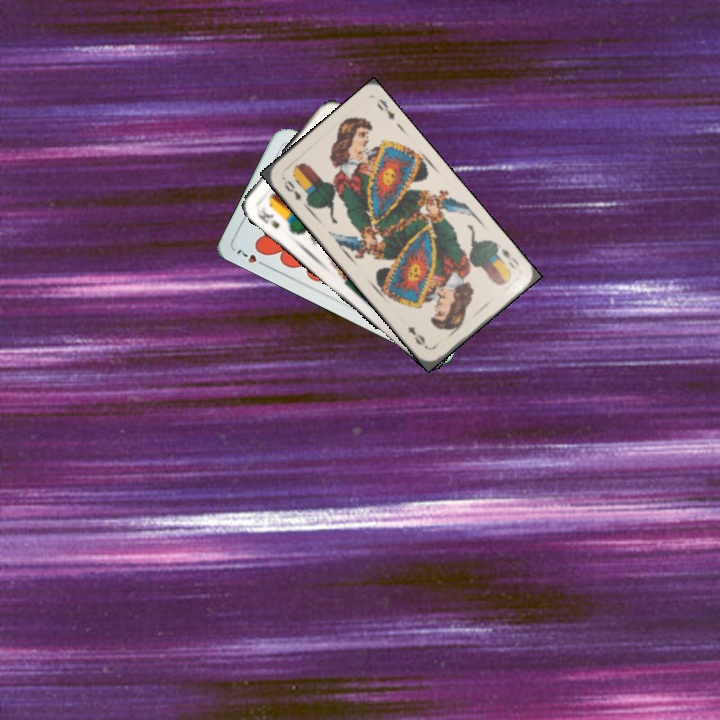EK: (252, 203, 282, 231)
EO: (278, 173, 311, 206), (497, 244, 522, 272)
H7: (232, 245, 269, 269)
